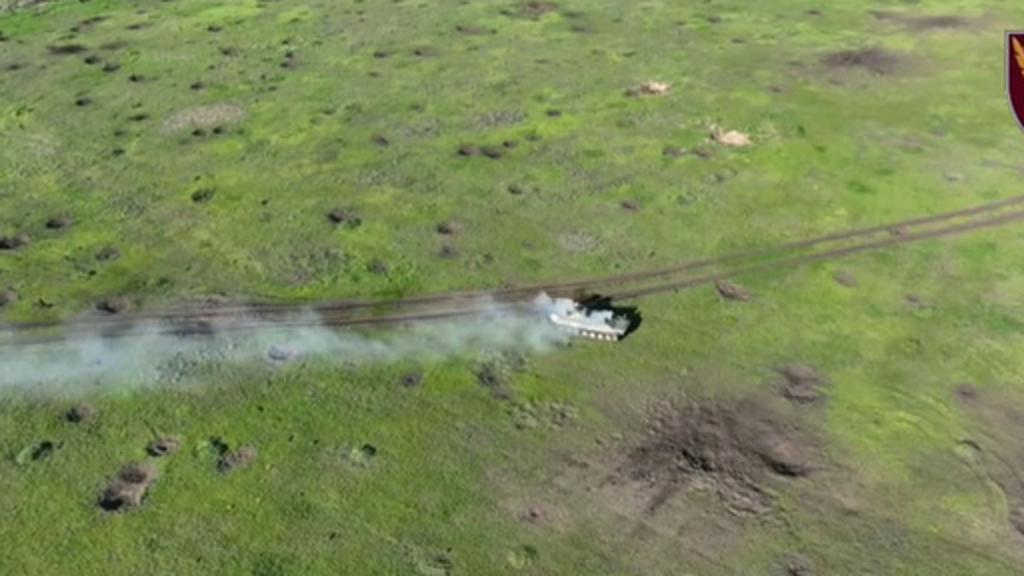APC-IFV: (538, 282, 652, 346)
